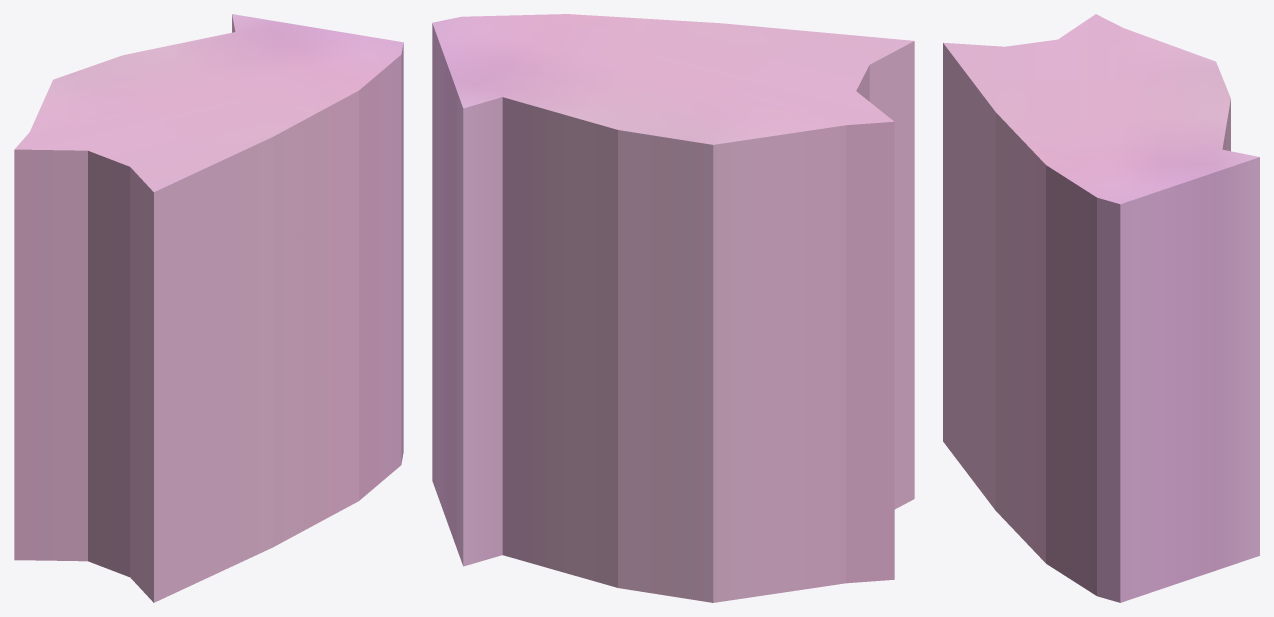
Rendered from fair haven.glb.
3 views of the same model, side by side, from view 1: azimuth 30°, elevation 25°; view 2: azimuth 150°, elevation 25°; view 3: azimuth 270°, elevation 25° (orthographic). The views are drawn at different scales.
Visible parts, largest first — view 1: Plane.035; view 2: Plane.035; view 3: Plane.035.
Boxes of the visible parts, left/top/right/bottom form: Plane.035: left=14, top=14, right=403, bottom=602; Plane.035: left=432, top=14, right=914, bottom=602; Plane.035: left=943, top=14, right=1259, bottom=602.
Size of the model in its own units: 0.3948 by 0.3856 by 0.2779.
1 material, 1 textured.
